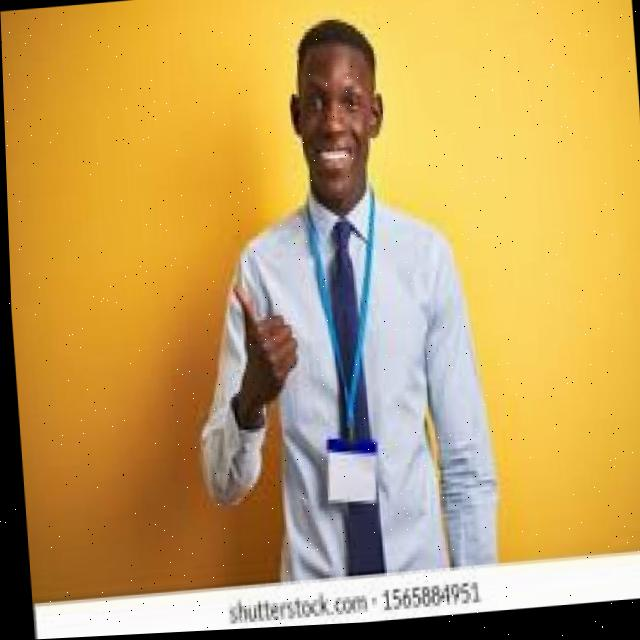id_card: (291, 191, 386, 517)
